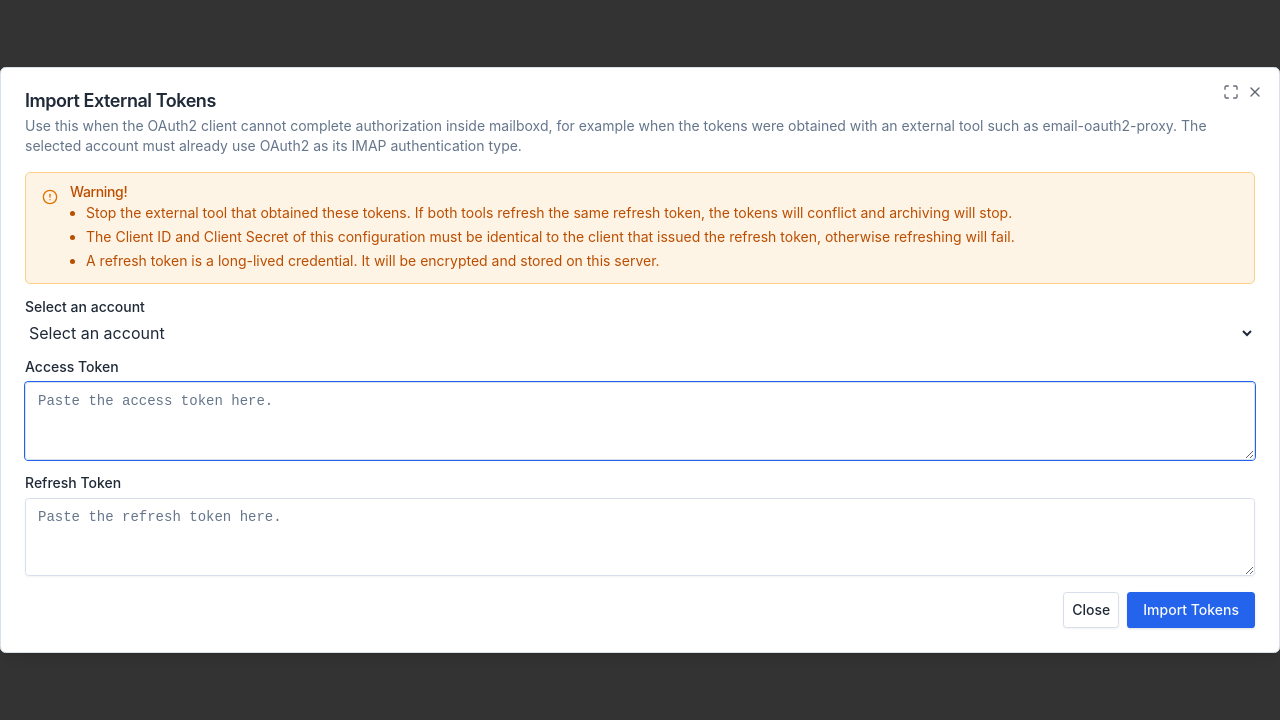
Scenario: ImportTokensDialog › requires an account and both tokens
Click the button "Import Tokens".
click(1191, 610)  # box [1127,592,1255,628]
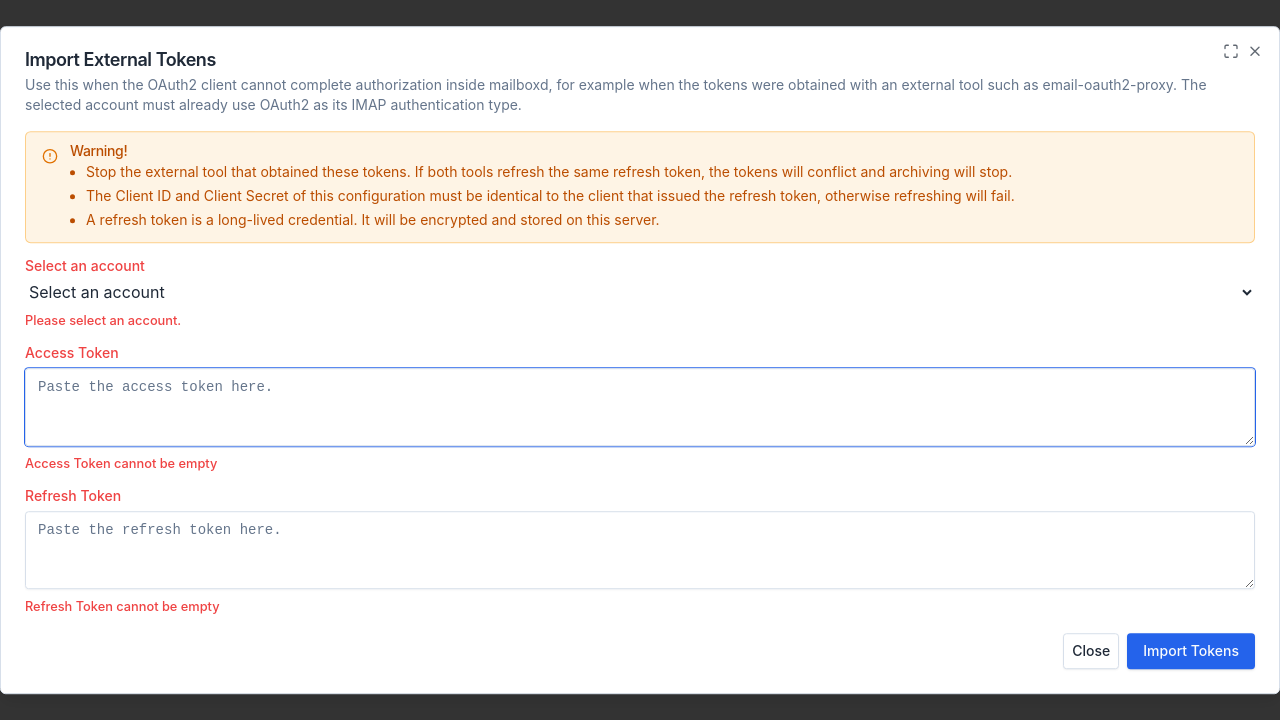
Expected: the text "Please select an account." is shown, [25,313,181,328]
Expected: the text "Access Token cannot be empty" is shown, [25,456,217,471]
Expected: the text "Refresh Token cannot be empty" is shown, [25,600,220,615]
